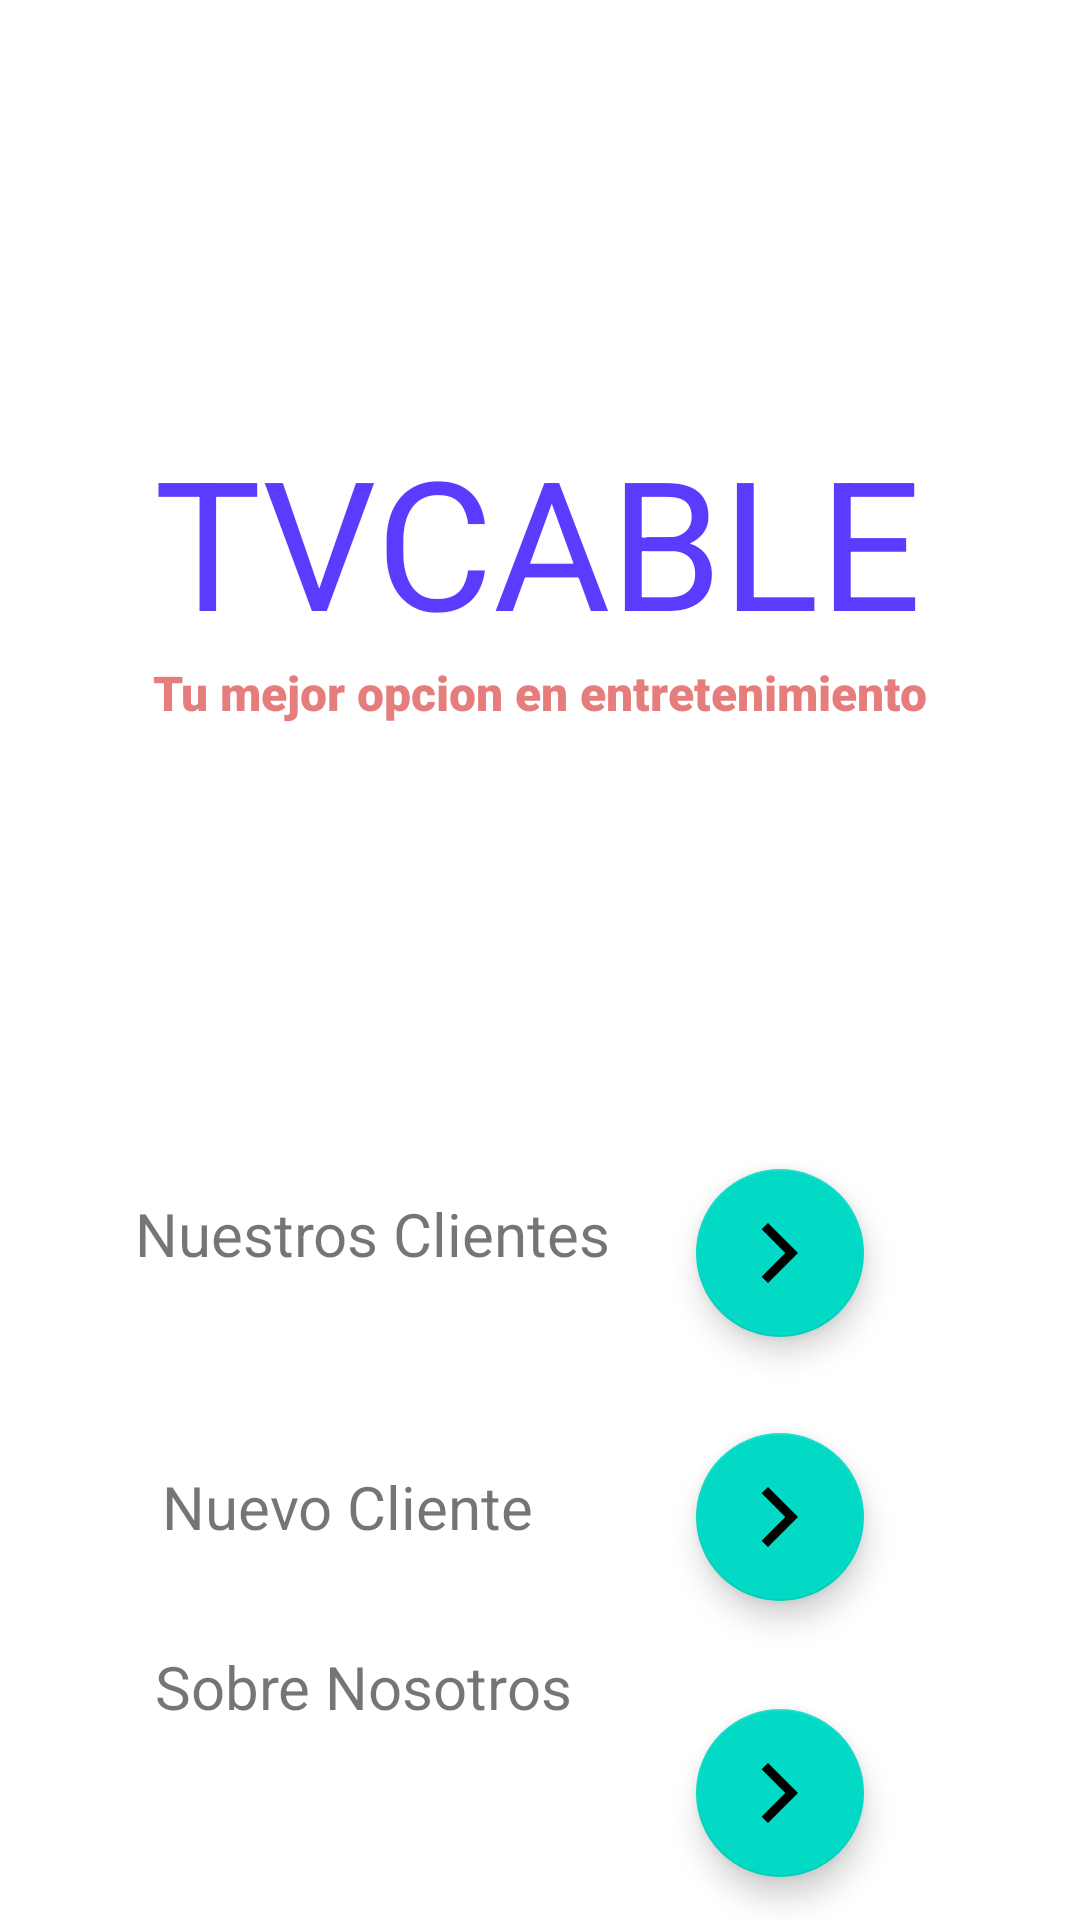

Named icons in this screenshot (1080 × 1920) and their centers, [x,y]:
arrow forward: [780,1253], [780,1517], [780,1793]
